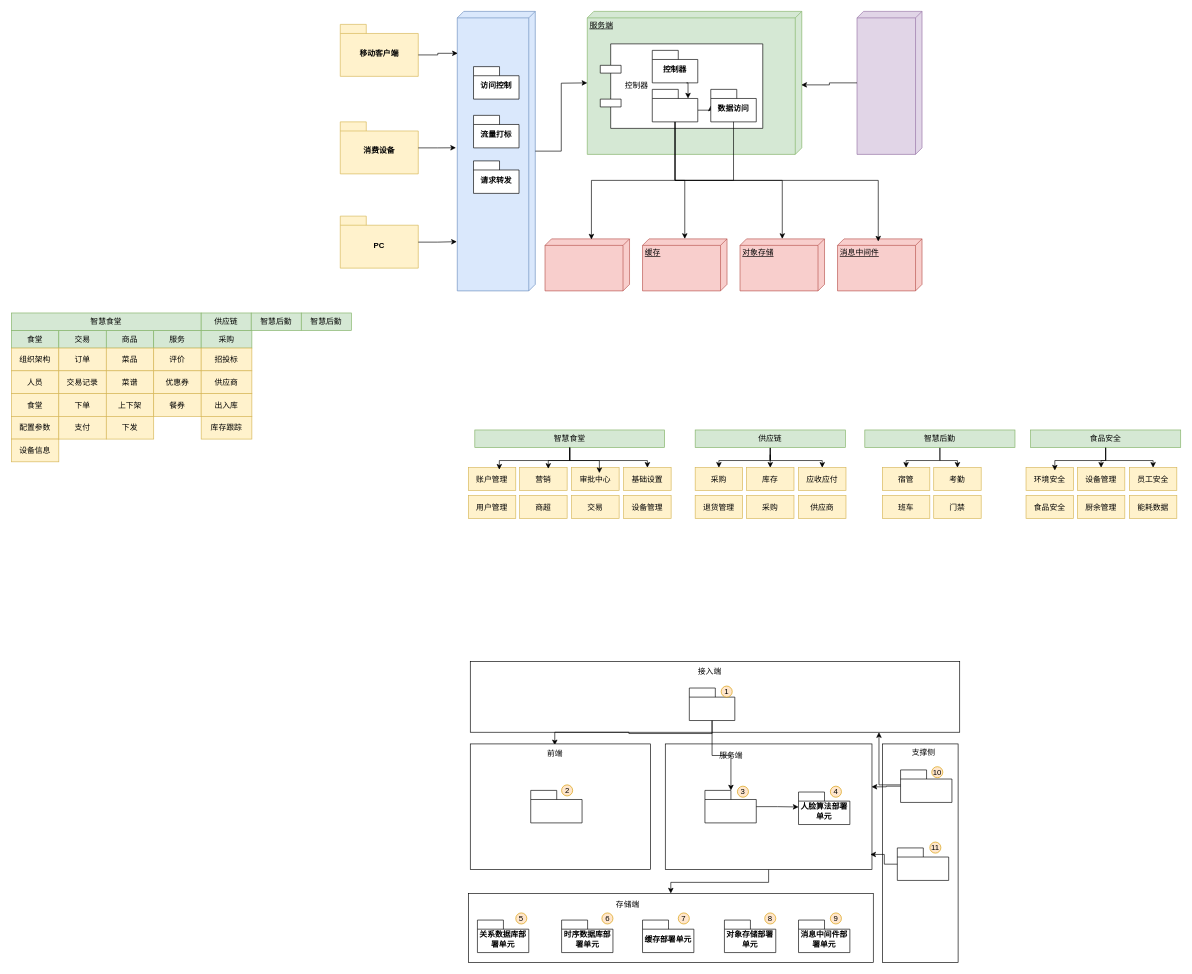
The diagram is 1192 pixels wide and 974 high, and some of its shapes have lost their labels. The box of each missing label's shape, as (x1, y1, x2, y2) in pixels:
业务类: (652, 89, 698, 122)
任务调度: (856, 11, 922, 154)
前端界面部署单元: (530, 790, 582, 823)
接口服务单元: (704, 790, 756, 823)
数据库: (544, 238, 630, 291)
监控服务部署单元: (900, 769, 952, 802)
网关: (457, 11, 535, 291)
网关部署单元: (689, 687, 735, 721)
调度服务部署单元: (897, 847, 949, 880)
